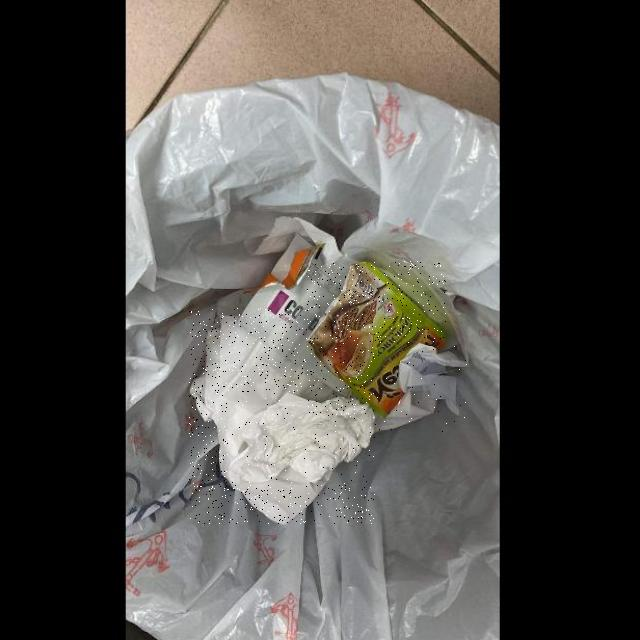paper: (189, 308, 375, 524), (227, 392, 376, 484), (374, 343, 468, 432)
wrapper: (307, 261, 446, 417)
